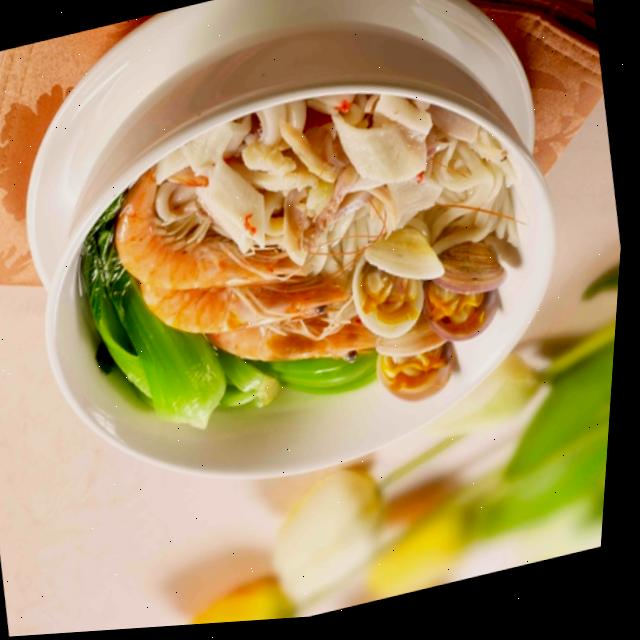面条主食: (6, 8, 611, 556)
